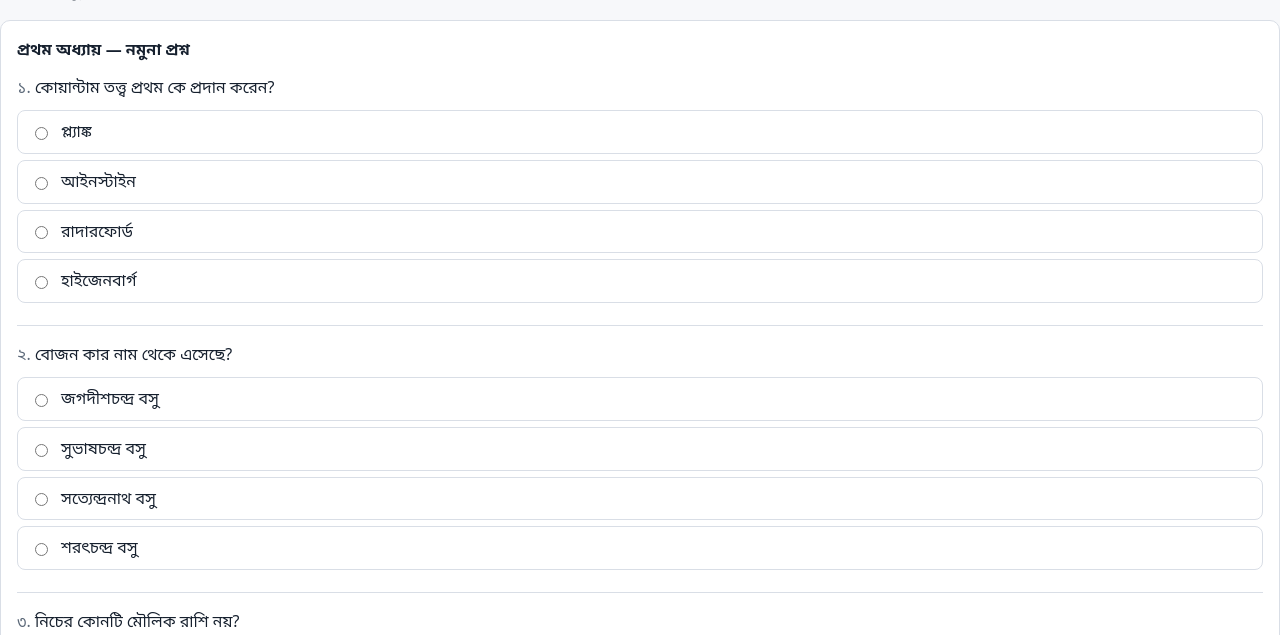
Test case: QuizRunner › shows the explanation after submitting, not before
This screenshot has width=1280, height=635.
Expected: the text "ম্যাক্স প্ল্যাঙ্ক কোয়ান্টাম তত্ত্ব" is not shown
What coordinates should you click on to do the following:
click the radio button labelled "আইনস্টাইন"
I would click on:
 (42, 183)
Its box is [35, 177, 48, 190].
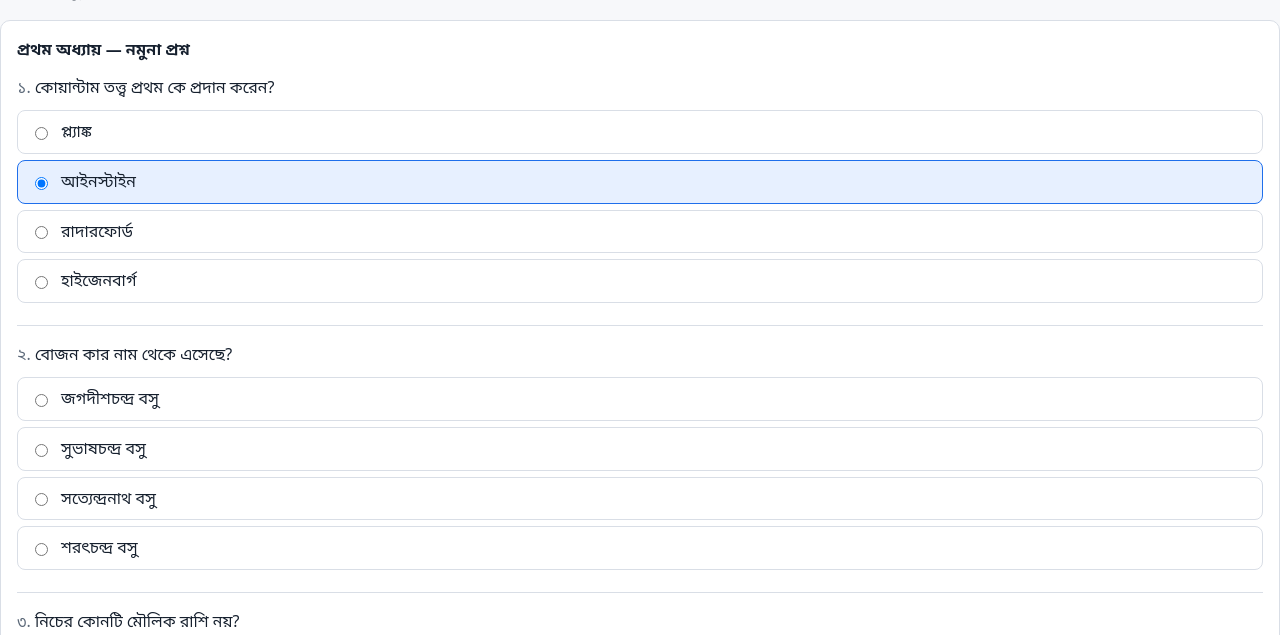
What coordinates should you click on to do the following:
click the radio button labelled "সত্যেন্দ্রনাথ বসু"
I would click on:
 (42, 500)
Its box is [35, 493, 48, 506].
(page scrolled)
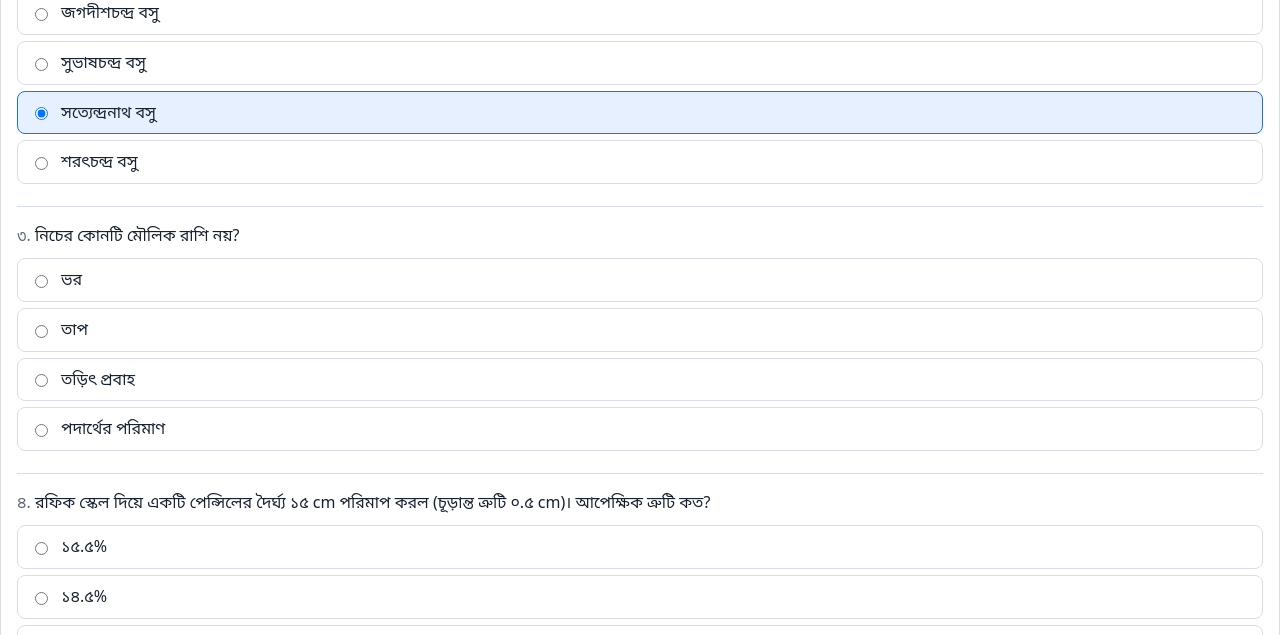
What coordinates should you click on to do the following:
click the radio button labelled "তাপ"
I would click on:
 (42, 331)
Its box is [35, 325, 48, 338].
(page scrolled)
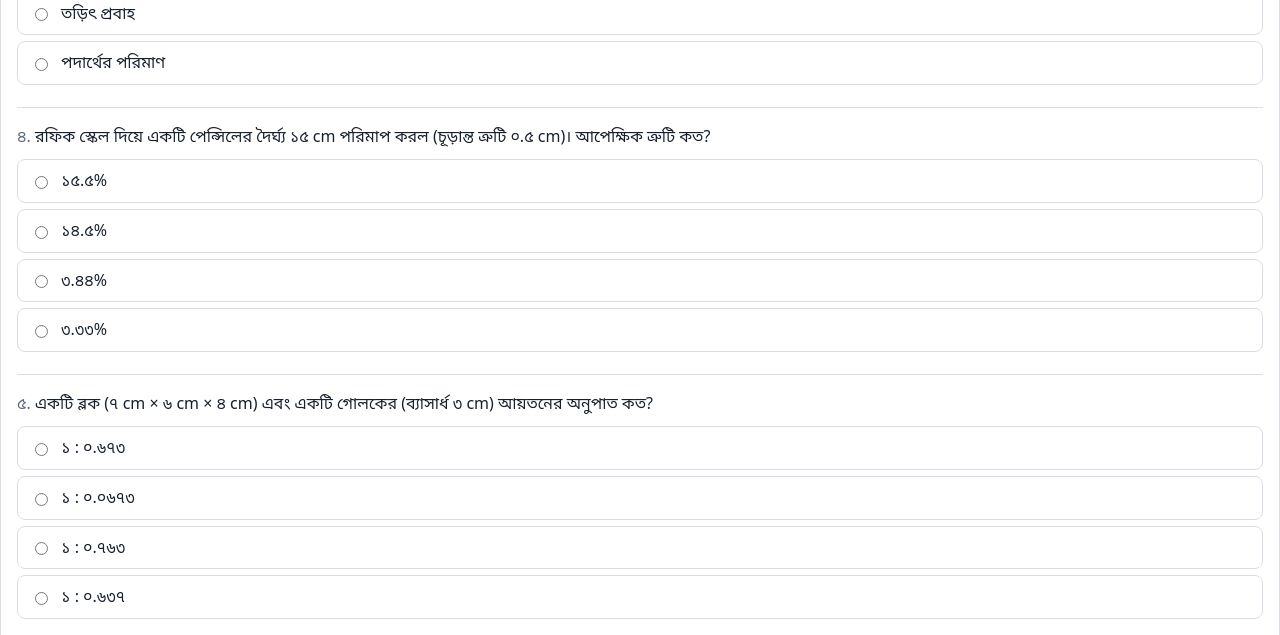
What coordinates should you click on to do the following:
click the radio button labelled "৩.৩৩%"
I would click on:
 (42, 331)
Its box is [35, 325, 48, 338].
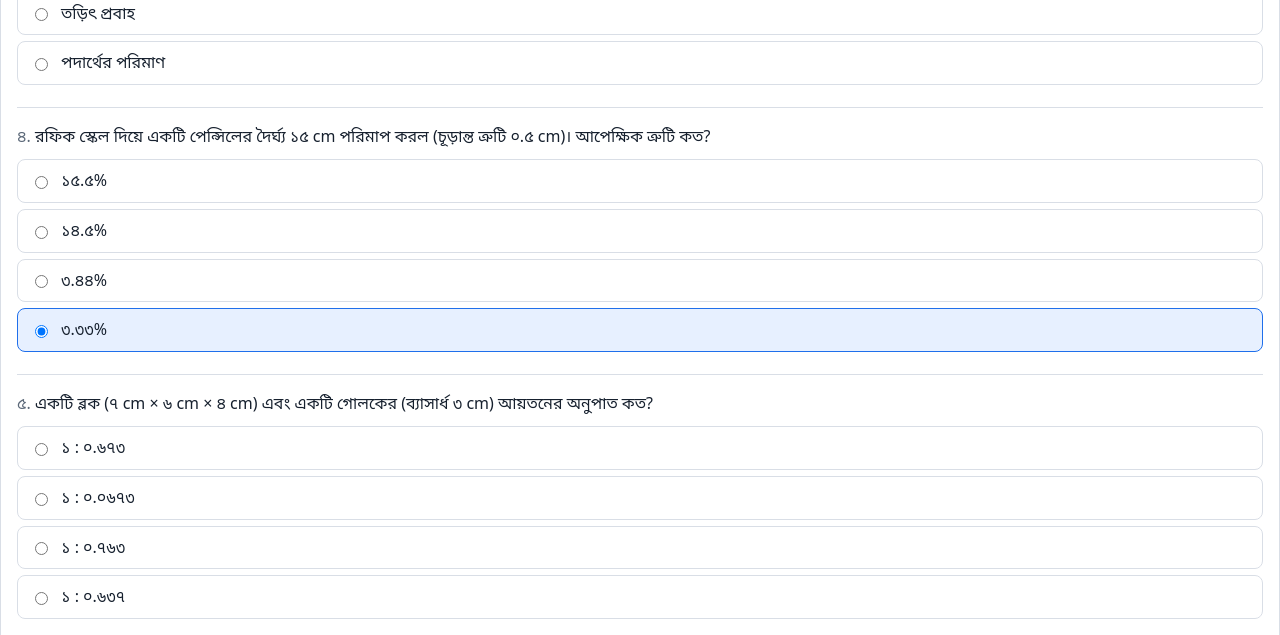
What coordinates should you click on to do the following:
click the radio button labelled "১ : ০.৬৭৩"
I would click on:
 (42, 450)
Its box is [35, 443, 48, 456].
(page scrolled)
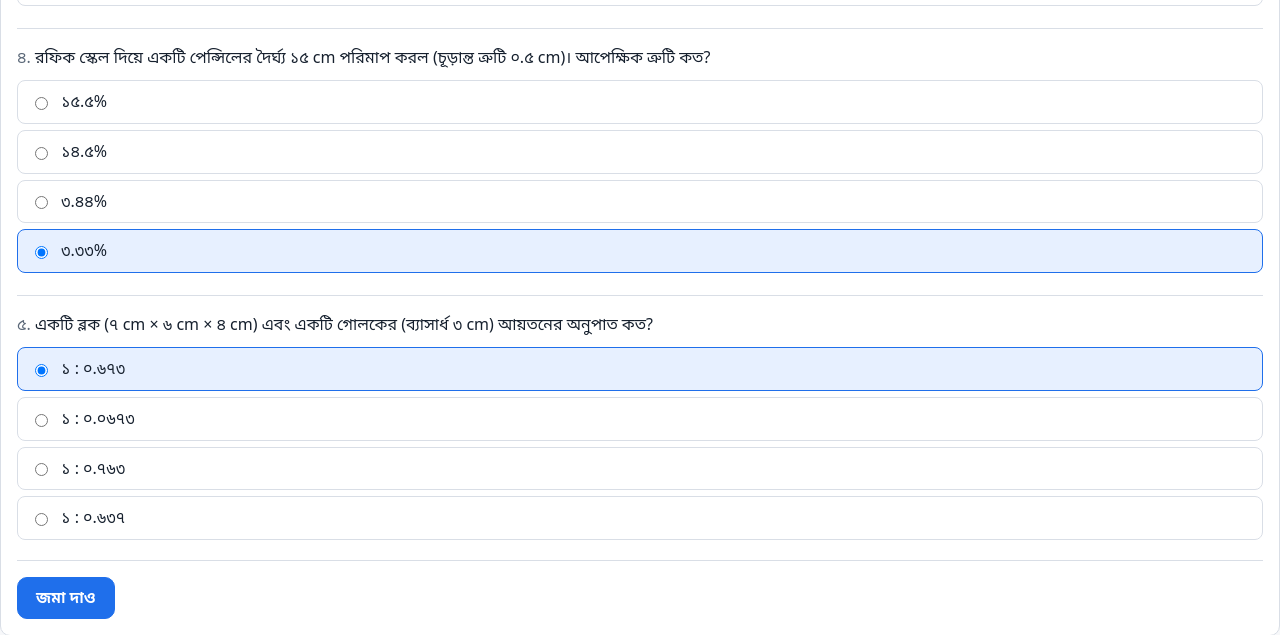
What coordinates should you click on to do the following:
click the button "জমা দাও"
I would click on:
 (66, 598)
Its box is [17, 577, 115, 619].
(page scrolled)
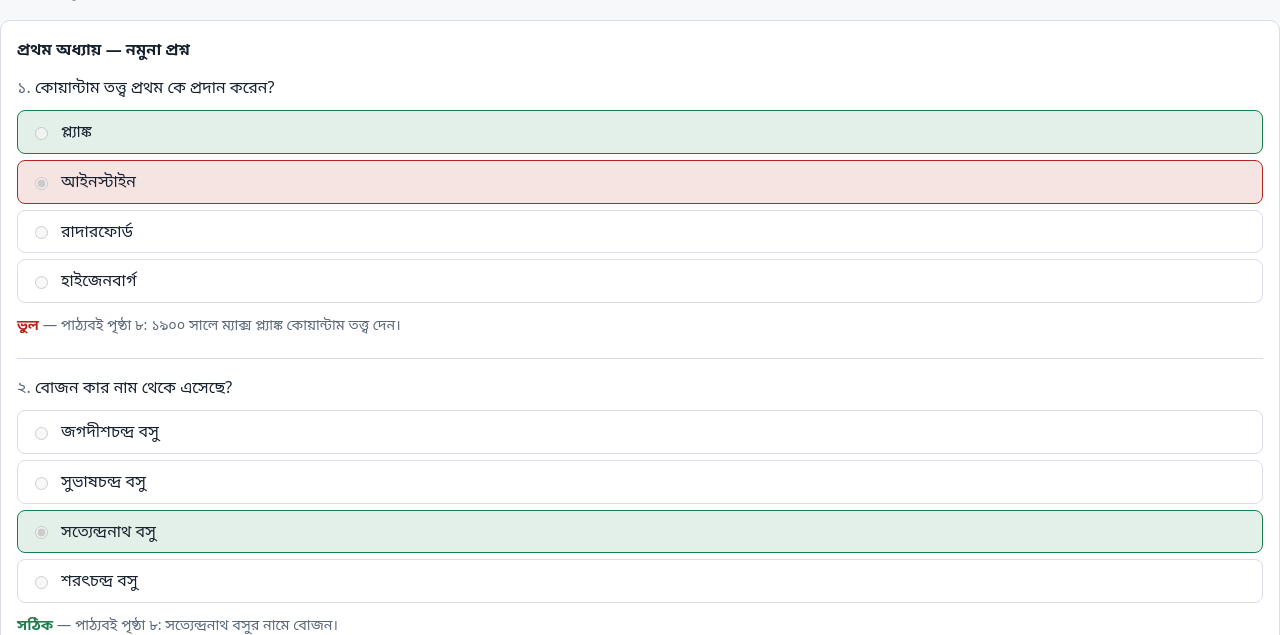
Expected: the text "ম্যাক্স প্ল্যাঙ্ক কোয়ান্টাম তত্ত্ব" is shown, [39, 315, 401, 334]
